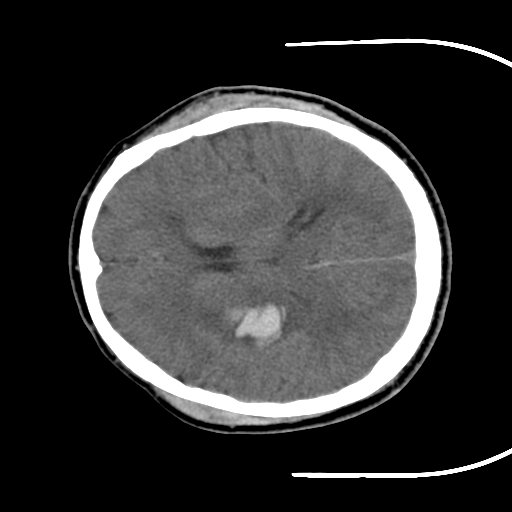a: (191, 273, 313, 360)
